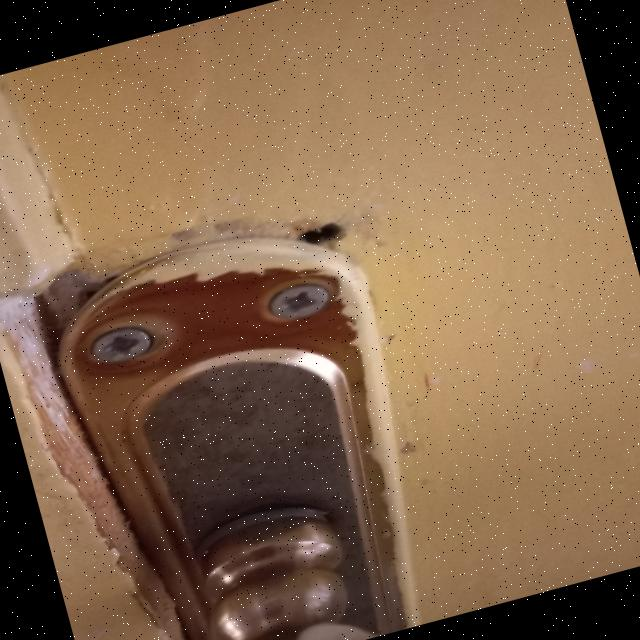Phillips: (81, 320, 168, 372), (265, 273, 342, 328)
